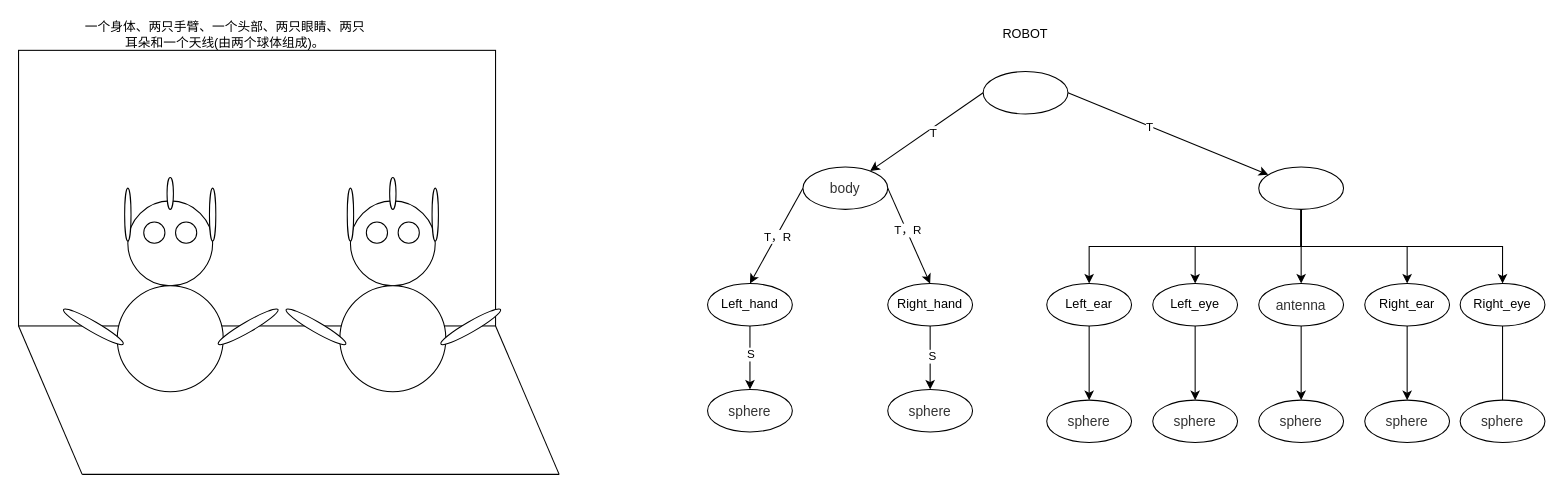
Image size: 1563x494. Some labels were removed from this diagram. Each missing label, with the centre of its shape:
"head" belongs at point 1301,187.
"Root" belongs at point 1025,92.
